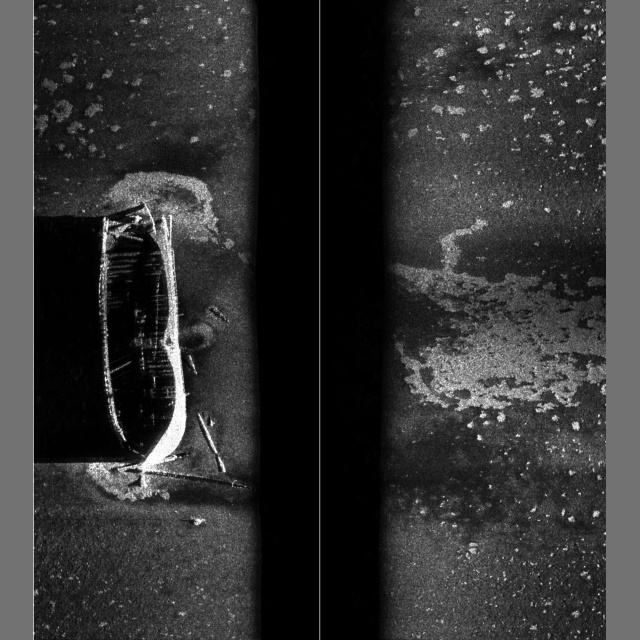Shipwreck: (98, 204, 248, 501)
